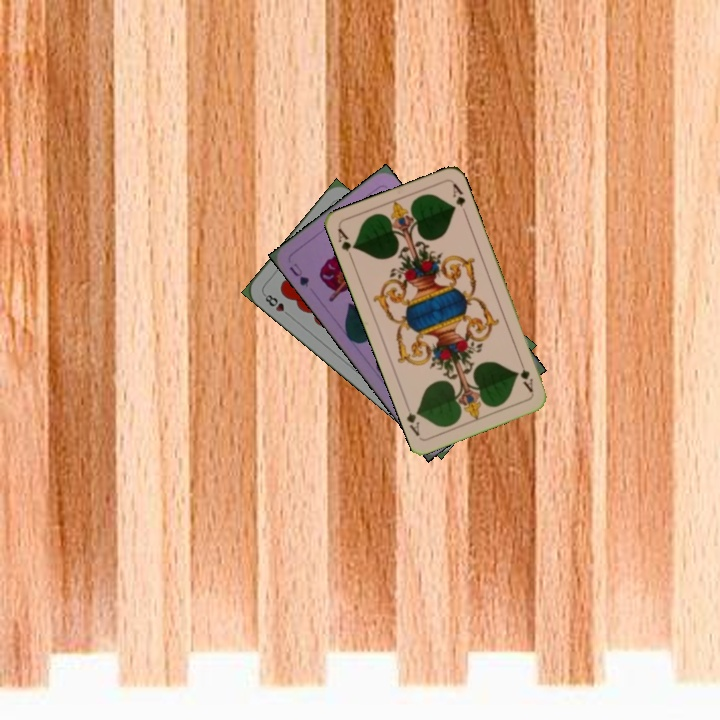GA: (334, 224, 358, 264), (516, 357, 536, 395)
GU: (285, 259, 312, 290)
H8: (260, 289, 294, 319)
